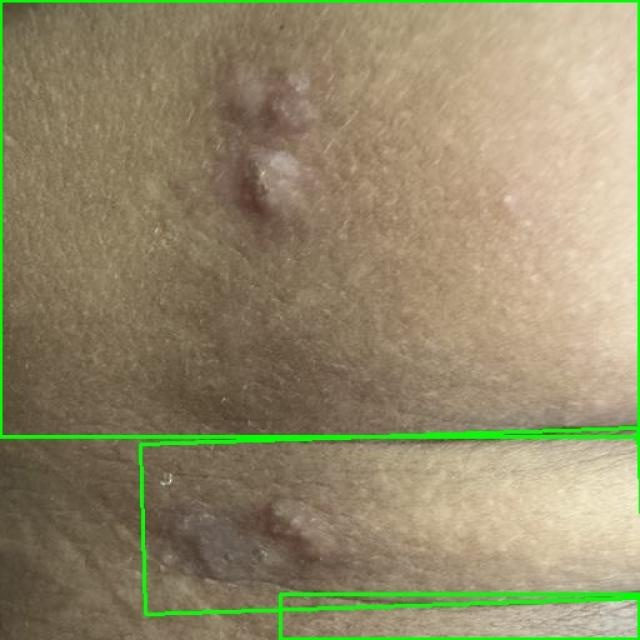Scabies: (0, 0, 639, 436), (140, 428, 640, 614), (280, 594, 639, 639)
